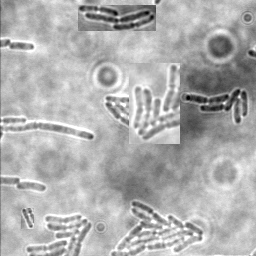Dividing: (1, 123, 95, 142), (8, 41, 35, 52)
Microcolony: (109, 200, 205, 255), (129, 63, 180, 144), (25, 212, 94, 255), (184, 89, 248, 126), (78, 5, 156, 31), (103, 96, 128, 132), (16, 182, 48, 193)
Rod: (21, 208, 34, 229)
